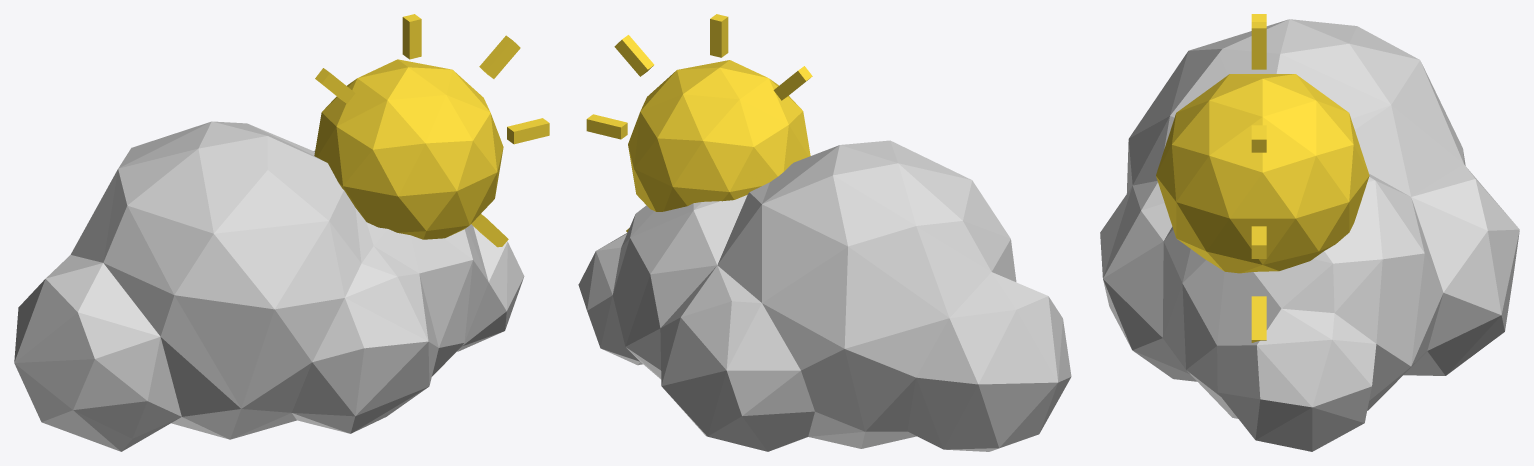
The picture shows the model from 3 angles, left to right: view 1: azimuth 30°, elevation 25°; view 2: azimuth 150°, elevation 25°; view 3: azimuth 270°, elevation 25°; orthographic projection. The views are drawn at different scales.
Parts seen in each view (by area): view 1: 02d_sun_Icosphere.001, sun_sun_Icosphere.002; view 2: 02d_sun_Icosphere.001, sun_sun_Icosphere.002; view 3: 02d_sun_Icosphere.001, sun_sun_Icosphere.002.
Boxes of the visible parts, left/top/right/bottom form: 02d_sun_Icosphere.001: left=14, top=121, right=524, bottom=451; sun_sun_Icosphere.002: left=314, top=14, right=549, bottom=247; 02d_sun_Icosphere.001: left=578, top=140, right=1071, bottom=451; sun_sun_Icosphere.002: left=586, top=14, right=812, bottom=232; 02d_sun_Icosphere.001: left=1100, top=19, right=1519, bottom=451; sun_sun_Icosphere.002: left=1156, top=14, right=1369, bottom=342.
Size of the model in its own units: 6.39 by 4.5 by 4.16.
